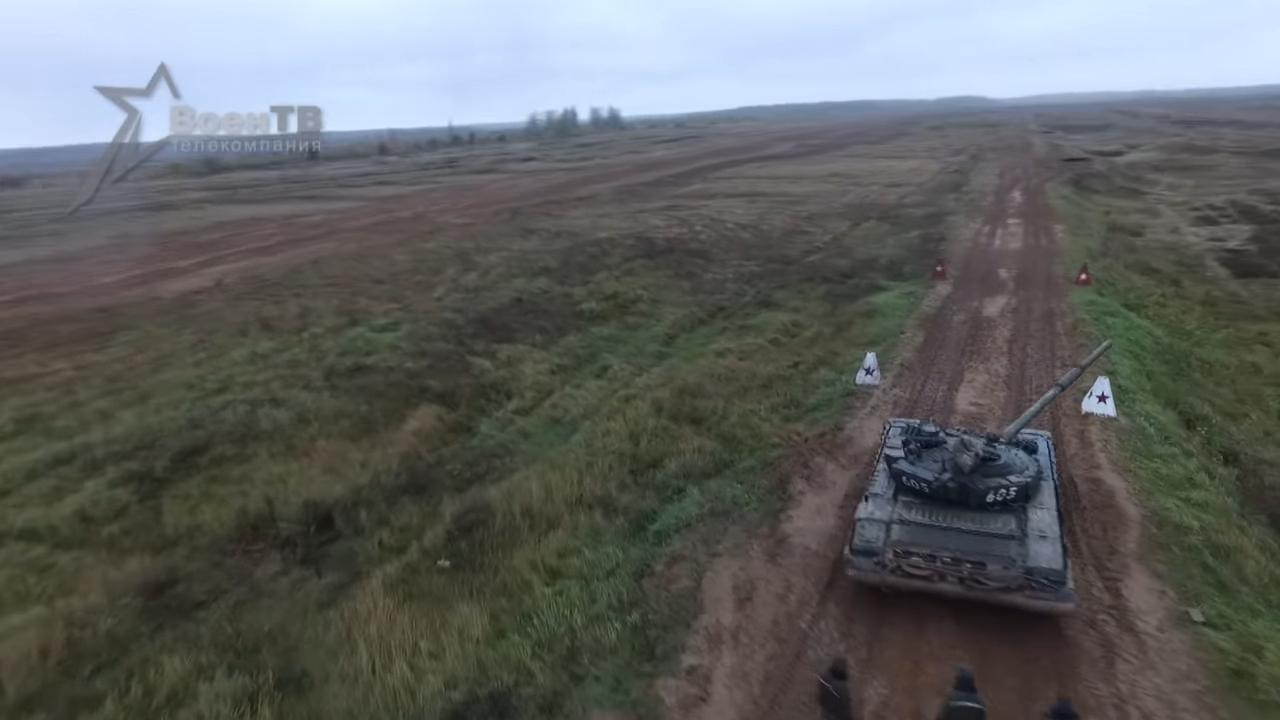tank: (842, 338, 1114, 616)
